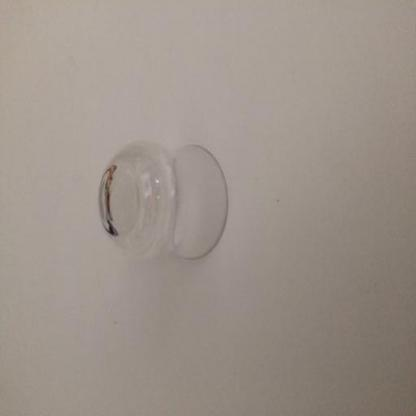Glass: (99, 141, 228, 259)
